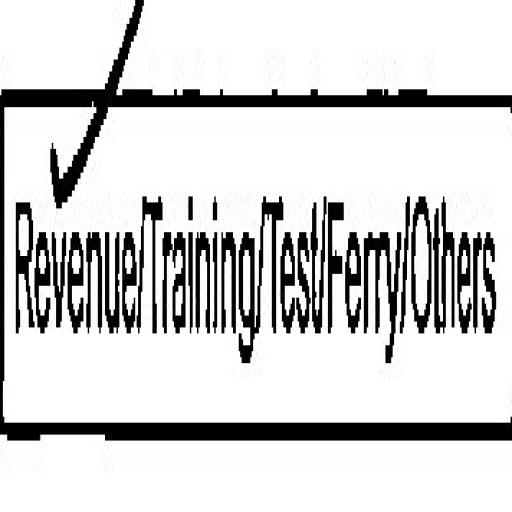check: (0, 0, 142, 470)
